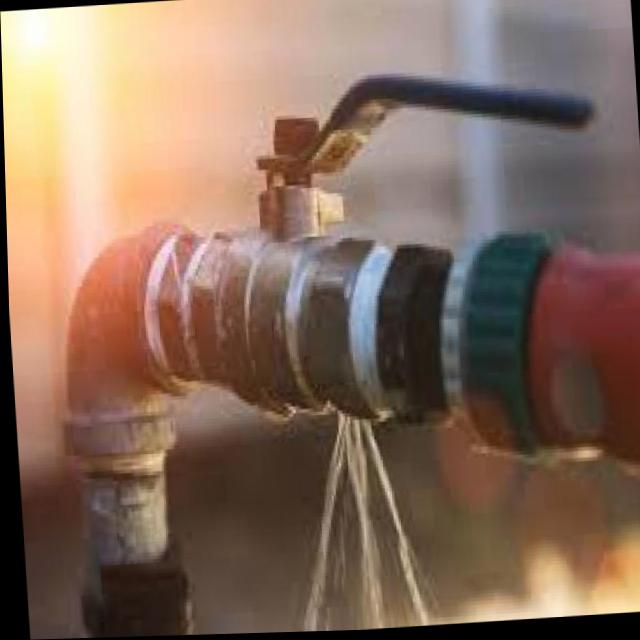leak: (303, 411, 428, 632)
